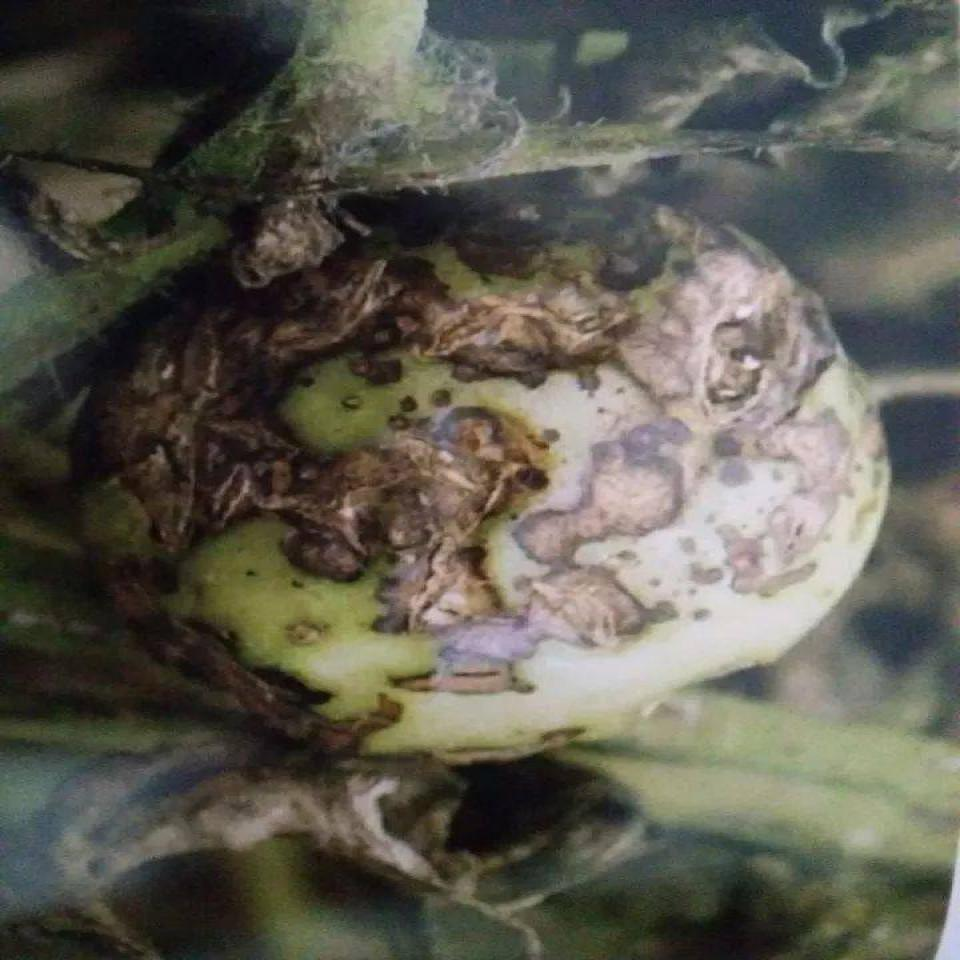Spotted wilt Virus: (46, 170, 899, 765)
